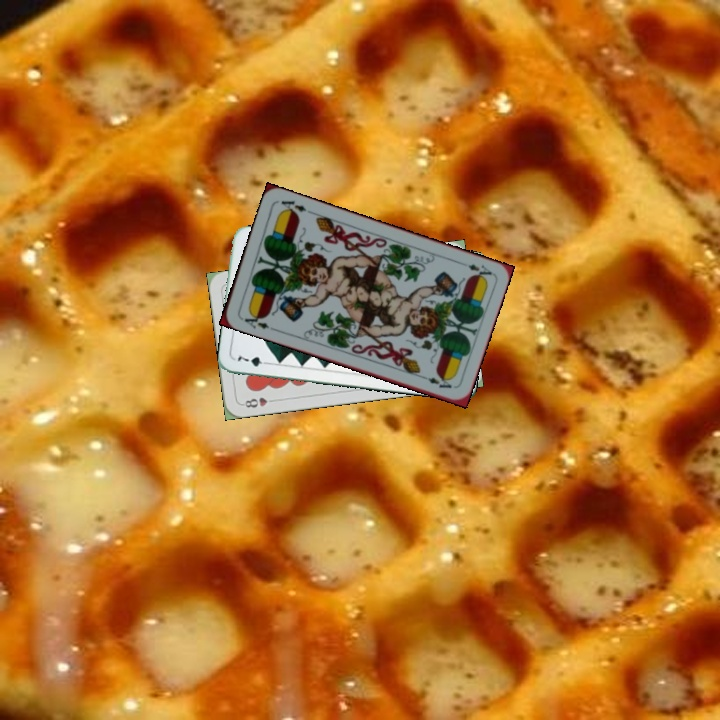EA: (237, 308, 276, 333), (455, 258, 495, 281)
G7: (234, 350, 273, 369)
H8: (238, 393, 279, 410)
